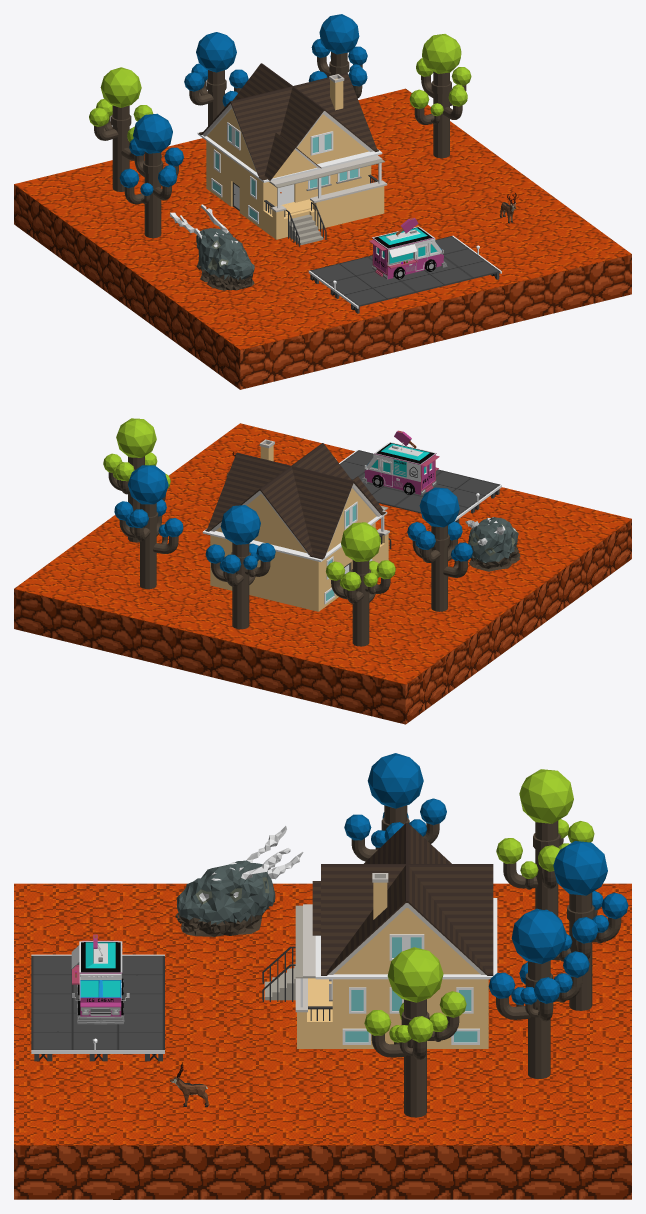
The picture shows the model from 3 angles, top to bottom: view 1: azimuth 30°, elevation 25°; view 2: azimuth 150°, elevation 25°; view 3: azimuth 270°, elevation 25°; orthographic projection. The views are drawn at different scales.
Parts seen in each view (by area): view 1: Cube.001, Cube.235, OBJRANDOM_METEORITE, VEHICLES_ICE_CREAM_TRUCK; view 2: Cube.001, Cube.235, VEHICLES_ICE_CREAM_TRUCK, OBJRANDOM_METEORITE; view 3: Cube.001, Cube.235, OBJRANDOM_METEORITE, VEHICLES_ICE_CREAM_TRUCK.
Boxes of the visible parts, x1,y1,x2,y2 form: Cube.001: (14, 14, 631, 389); Cube.235: (197, 63, 387, 246); OBJRANDOM_METEORITE: (170, 204, 254, 290); VEHICLES_ICE_CREAM_TRUCK: (369, 218, 447, 279); Cube.001: (14, 418, 631, 724); Cube.235: (202, 439, 391, 611); VEHICLES_ICE_CREAM_TRUCK: (361, 430, 439, 494); OBJRANDOM_METEORITE: (465, 517, 520, 571); Cube.001: (14, 753, 631, 1199); Cube.235: (262, 823, 497, 1048); OBJRANDOM_METEORITE: (175, 826, 303, 936); VEHICLES_ICE_CREAM_TRUCK: (71, 934, 129, 1024).
Size of the model in its own units: 4000 by 1637 by 4000.
Materials: 43 (4 with a texture image).
